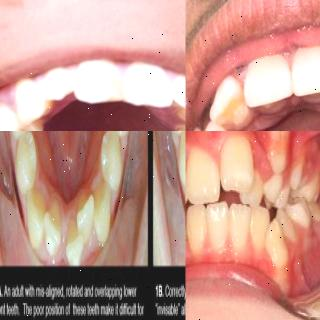maligned: (206, 80, 258, 131), (220, 138, 256, 192), (69, 192, 101, 248), (263, 215, 291, 265), (262, 177, 292, 209), (60, 234, 86, 268), (42, 216, 64, 256), (240, 172, 266, 204), (263, 138, 279, 168), (197, 121, 241, 131), (290, 165, 306, 189), (185, 218, 192, 240)
stains: (170, 123, 186, 131)
